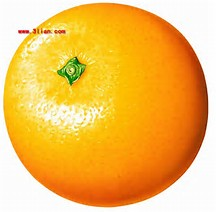orange: (3, 1, 208, 206)
